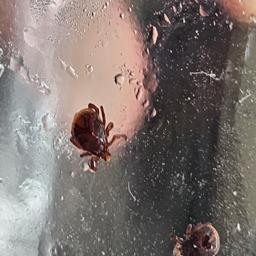Rhipicephalus sanguineus: (69, 104, 126, 171), (173, 223, 220, 256)
